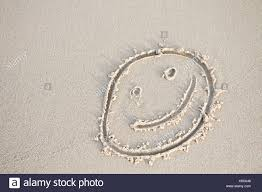feliz: (85, 35, 232, 159), (124, 64, 203, 136)
